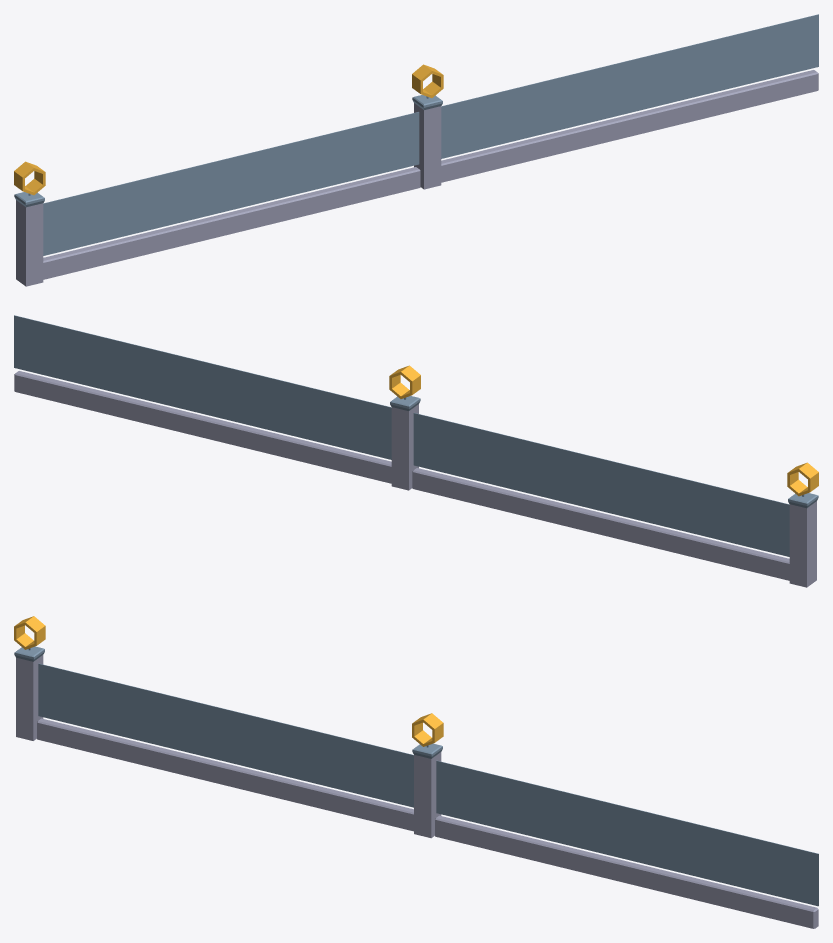
File: fence_monolith.fbx
3 renders of one model, top to bottom at view 1: azimuth 30°, elevation 25°; view 2: azimuth 150°, elevation 25°; view 3: azimuth 330°, elevation 25°, orthographic.
Parts seen in each view (by area): view 1: fence_monolith; view 2: fence_monolith; view 3: fence_monolith.
Boxes of the visible parts, x1,y1,x2,y2 form: fence_monolith: [14, 14, 818, 286]; fence_monolith: [14, 315, 818, 587]; fence_monolith: [14, 616, 818, 928].
Bounding box in the file's own units: 1084 × 150 × 26.22.
